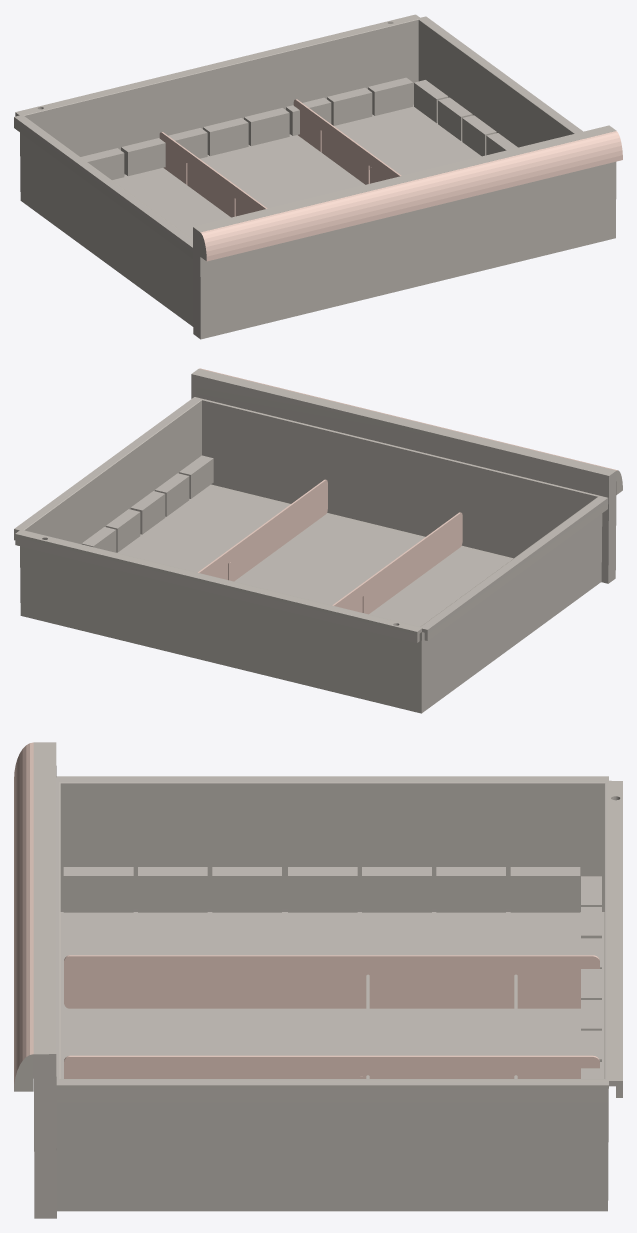
Rendered from 急救車抽屜-由上至下第四個.fbx.
The picture shows the model from 3 angles, top to bottom: view 1: azimuth 30°, elevation 25°; view 2: azimuth 150°, elevation 25°; view 3: azimuth 270°, elevation 25°; orthographic projection. The views are drawn at different scales.
Parts seen in each view (by area): view 1: drawer04_red001_0; view 2: drawer04_red001_0; view 3: drawer04_red001_0.
Part boxes in pixels (left/top/right/bottom): drawer04_red001_0: left=14, top=14, right=622, bottom=339; drawer04_red001_0: left=14, top=368, right=622, bottom=713; drawer04_red001_0: left=14, top=742, right=622, bottom=1218.
Bounding box in the file's own units: 362 × 89.45 × 299.
